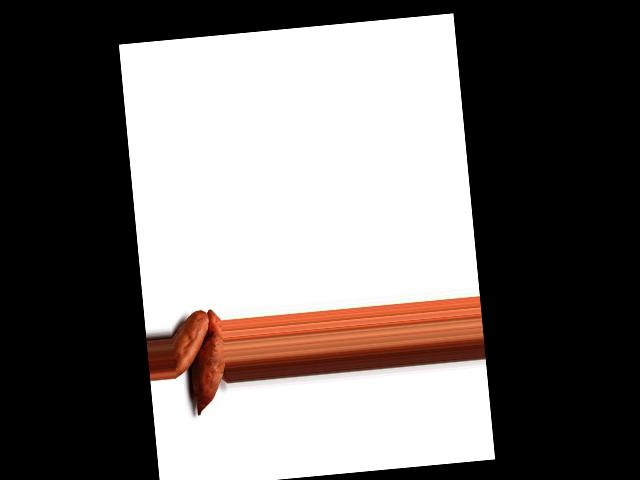sweet_potato: (169, 309, 213, 382)
